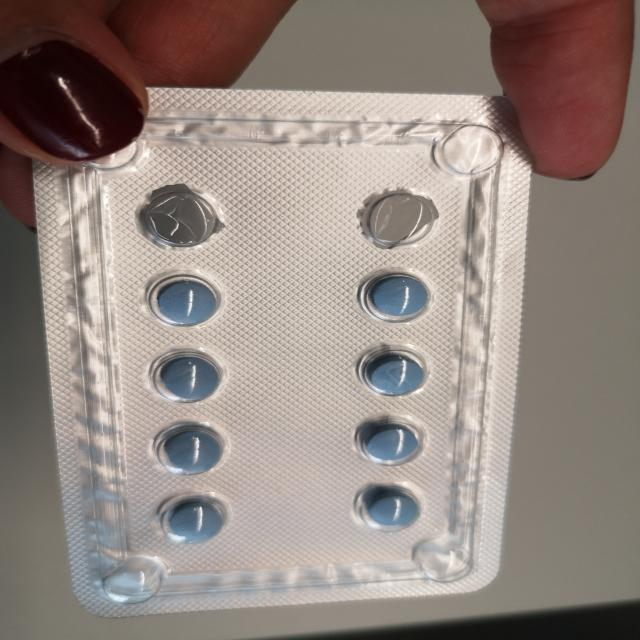Empty: (119, 178, 241, 258), (344, 178, 456, 260)
Pill: (326, 408, 444, 476), (334, 333, 448, 403), (132, 264, 235, 335), (143, 487, 255, 552), (144, 418, 244, 490), (140, 345, 238, 415), (343, 262, 440, 330), (347, 483, 434, 542)
